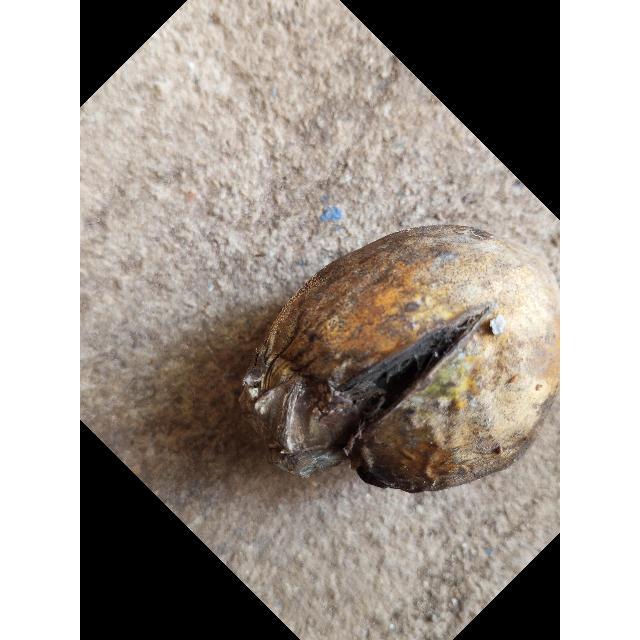damaged: (243, 222, 560, 494)
